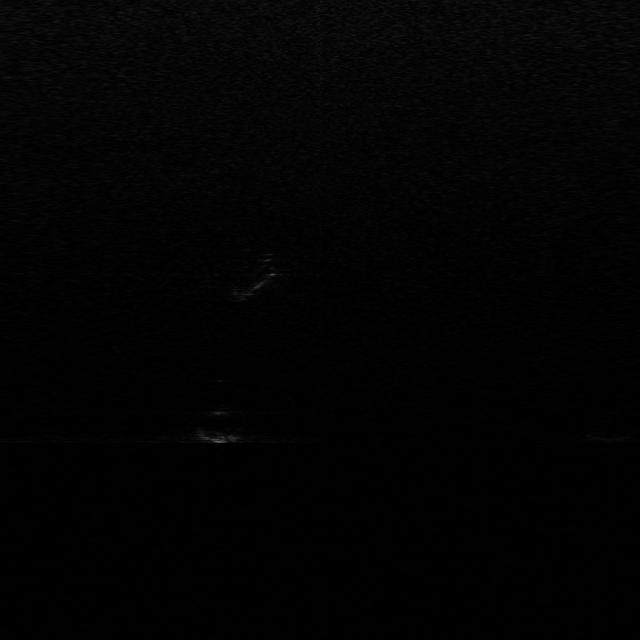ball: (194, 406, 243, 441)
tyre: (232, 259, 277, 304)
